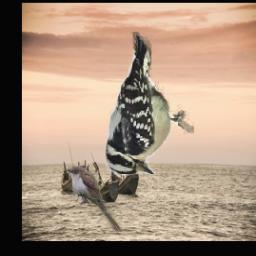Cuckoo: (67, 167, 123, 233)
Woodpecker: (103, 33, 193, 179)
